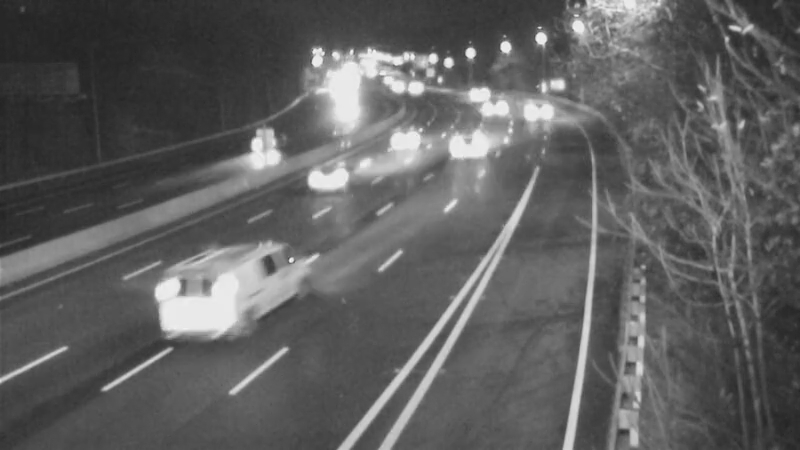vehicle: (293, 141, 373, 221), (167, 252, 247, 332), (387, 59, 437, 109), (445, 70, 495, 120), (508, 85, 558, 135), (467, 79, 517, 129), (383, 114, 433, 164), (448, 116, 498, 166), (236, 121, 286, 171)
